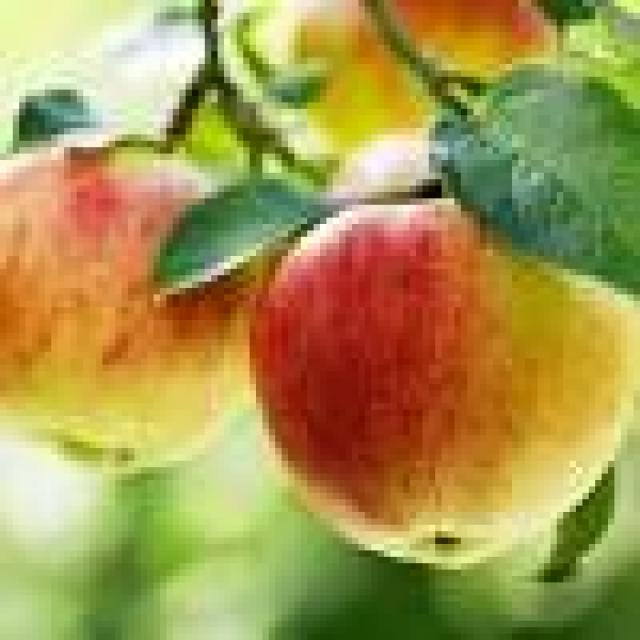apple: (243, 192, 640, 563)
